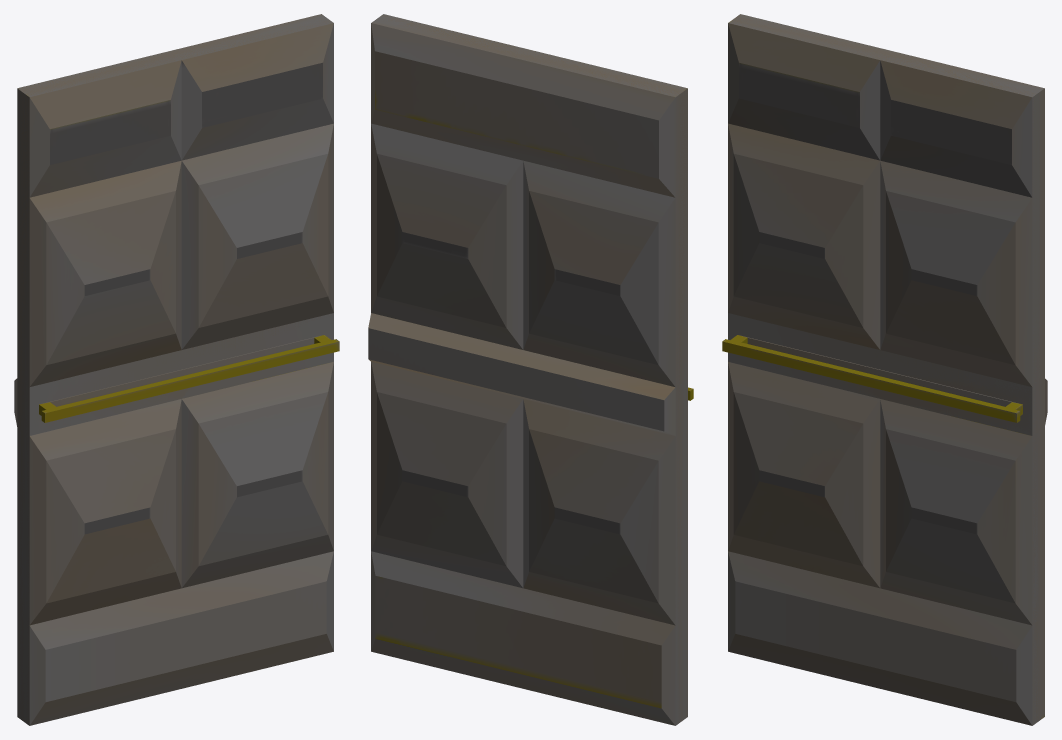
Rendered from puertaExterior.fbx.
3 views of the same model, side by side, from view 1: azimuth 30°, elevation 25°; view 2: azimuth 150°, elevation 25°; view 3: azimuth 330°, elevation 25° (orthographic).
Visible parts, largest first — view 1: puertafuera; view 2: puertafuera; view 3: puertafuera.
Part boxes in pixels (x1,y1,x2,y2): puertafuera: (14, 14, 339, 725); puertafuera: (368, 14, 693, 725); puertafuera: (722, 14, 1047, 725).
Size of the model in its own units: 402 by 794 by 82.89.
1 material, 1 textured.
